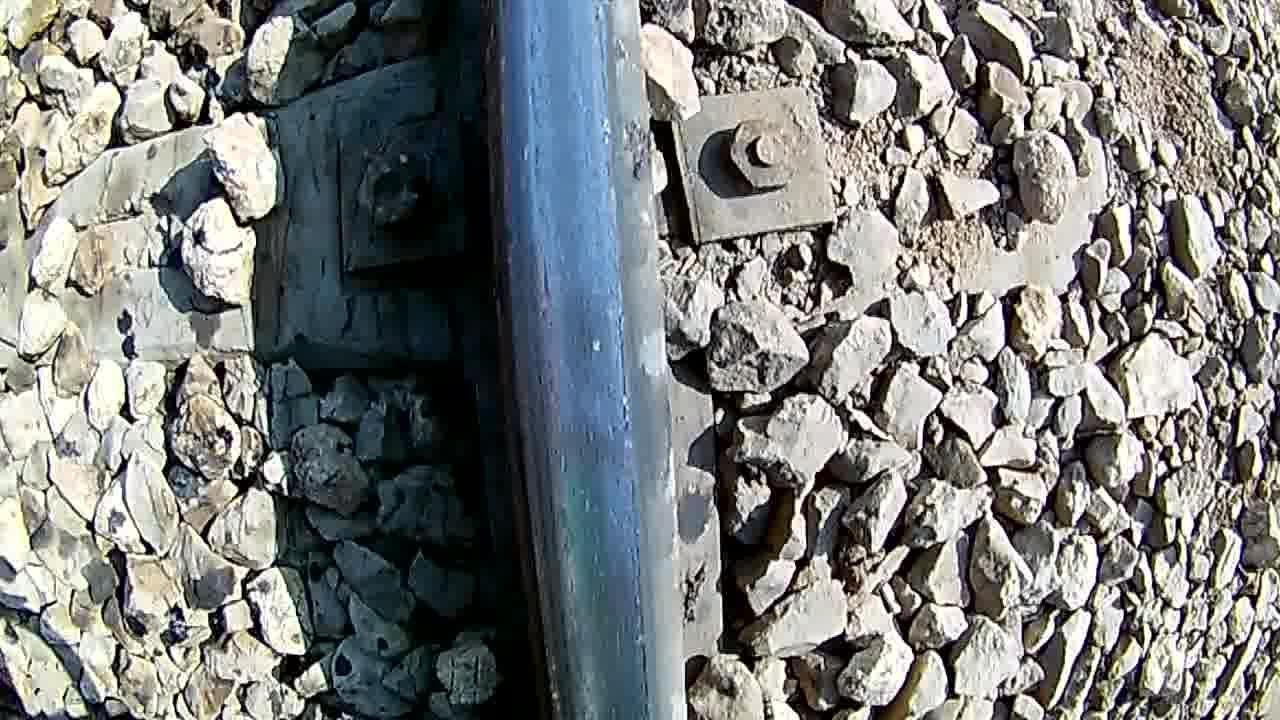crack: (478, 0, 692, 720)
